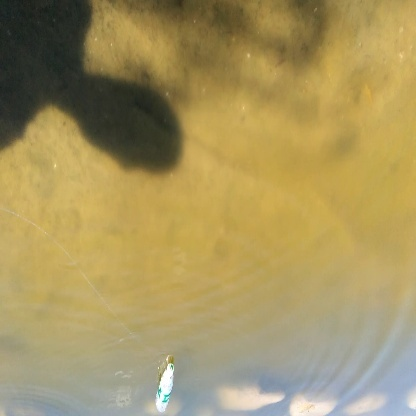bottle: (148, 359, 185, 412)
